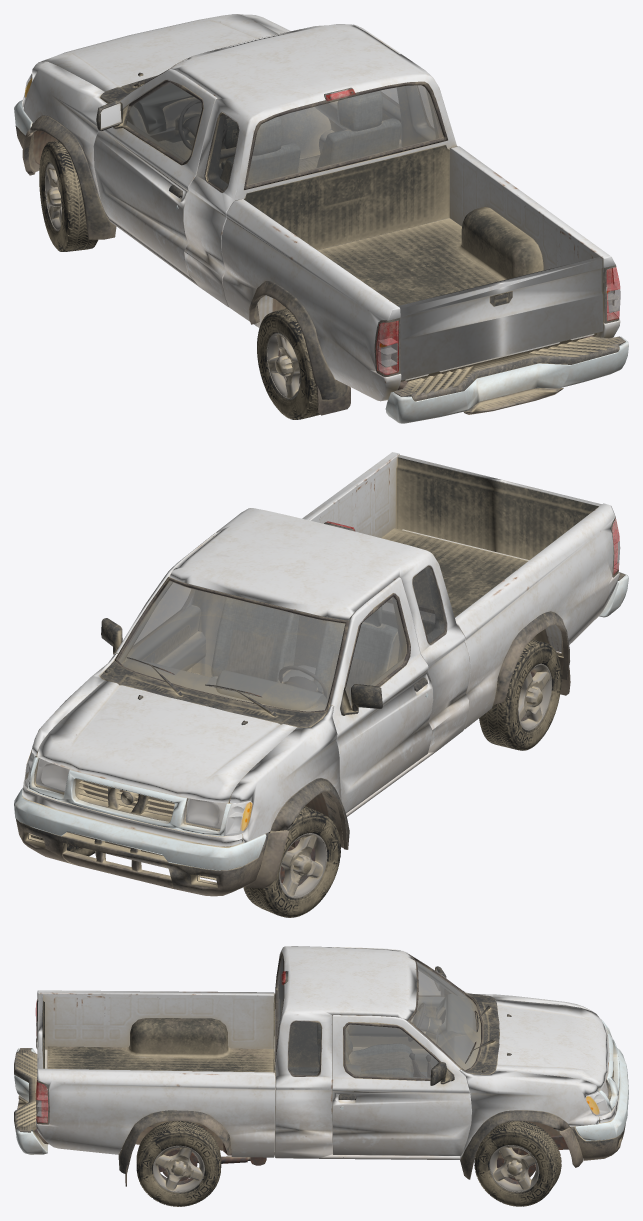
Rendered from nissan-4x4.glb.
The picture shows the model from 3 angles, top to bottom: view 1: azimuth 30°, elevation 25°; view 2: azimuth 150°, elevation 25°; view 3: azimuth 270°, elevation 25°; orthographic projection. The views are drawn at different scales.
Visible parts, largest first — view 1: UVset4_PlastiqueTemoin_low, UVset5_Airbag_low, UVset7_Airbag_low; view 2: UVset4_PlastiqueTemoin_low, UVset7_Airbag_low, UVset5_Airbag_low; view 3: UVset4_PlastiqueTemoin_low, UVset3_Volant_low, UVset6_Frein_low.
Boxes of the visible parts, x1,y1,x2,y2 form: UVset4_PlastiqueTemoin_low: (14, 14, 628, 423); UVset5_Airbag_low: (257, 308, 319, 419); UVset7_Airbag_low: (39, 140, 98, 251); UVset4_PlastiqueTemoin_low: (14, 452, 628, 896); UVset7_Airbag_low: (243, 806, 340, 917); UVset5_Airbag_low: (479, 639, 561, 750); UVset4_PlastiqueTemoin_low: (14, 946, 628, 1186); UVset3_Volant_low: (136, 1121, 221, 1206); UVset6_Frein_low: (474, 1121, 561, 1206).
Bounding box in the file's own units: 11.26 × 9.28 × 27.83.
Materials: 3 (3 with a texture image).
